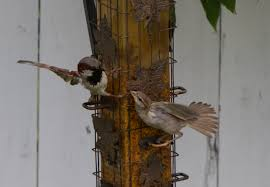hsparrow: (130, 88, 224, 149), (13, 55, 119, 107)
